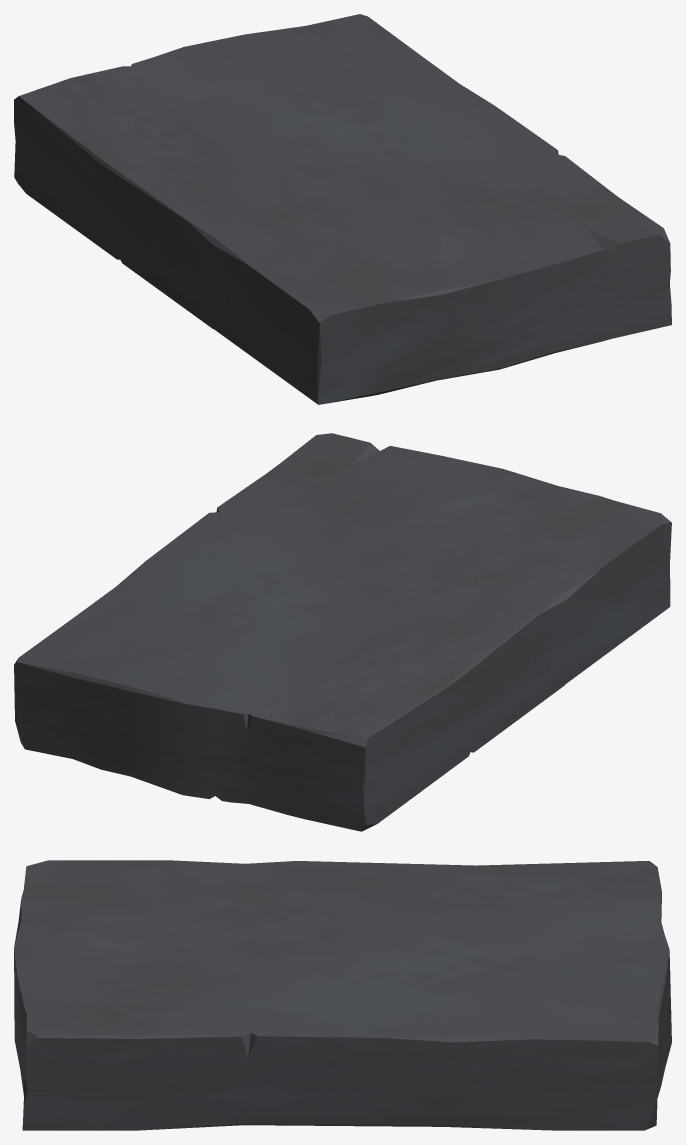
The model's file is ruins_slab_1.fbx.
The picture shows the model from 3 angles, top to bottom: view 1: azimuth 30°, elevation 25°; view 2: azimuth 150°, elevation 25°; view 3: azimuth 270°, elevation 25°; orthographic projection. The views are drawn at different scales.
Visible parts, largest first — view 1: slab 1; view 2: slab 1; view 3: slab 1.
Part boxes in pixels (<box>): slab 1: <box>14,14,671,404</box>; slab 1: <box>14,433,671,831</box>; slab 1: <box>14,860,671,1130</box>.
Size of the model in its own units: 200 by 50.7 by 316.
